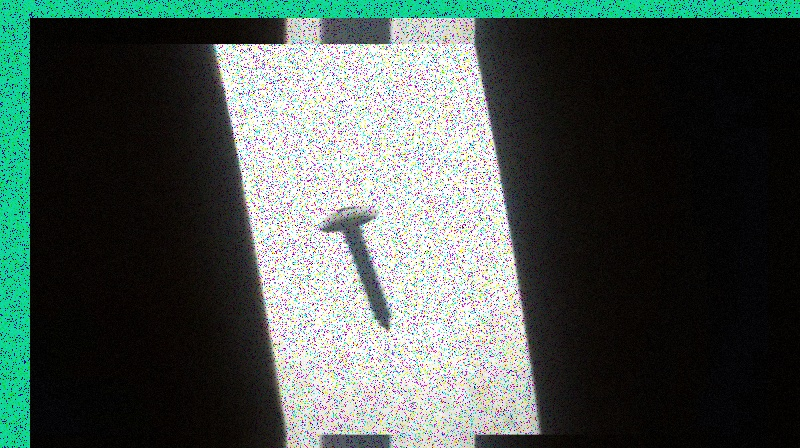S003: (316, 198, 394, 332)
